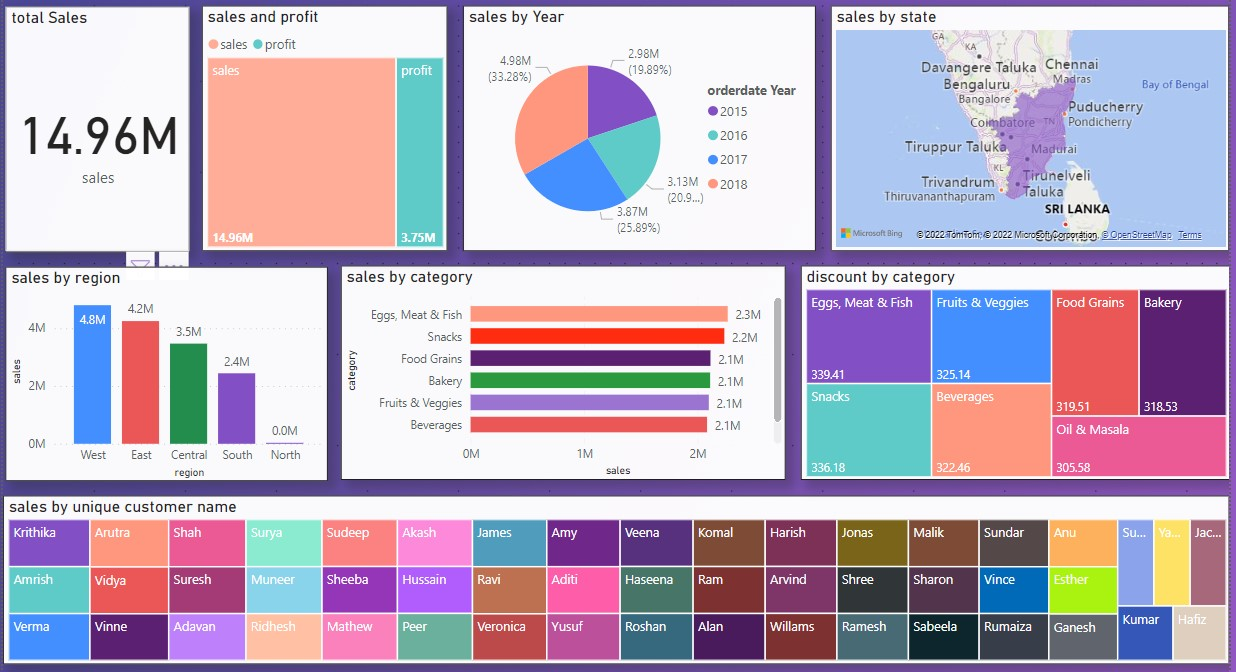

The page's visual inventory and layout, read from the dashboard file:
{"tool":"powerbi","page":{"name":"Page 1","canvas":[1280,720],"ordinal":0},"visuals":[{"type":"card","title":"total Sales ","fields":{"Values":["public fulldata.sales"]},"box":[2.6,16.9,192,256],"z":0},{"type":"columnChart","fields":{"Category":["public fulldata.region"],"Y":["public fulldata.sales"]},"box":[2.6,288.9,336,224],"z":1000},{"type":"clusteredBarChart","fields":{"Category":["public fulldata.category"],"Y":["public fulldata.sales"]},"box":[352,288,464,224],"z":2000},{"type":"pieChart","fields":{"Y":["public fulldata.sales"],"Category":["public fulldata.orderdate.Variation.Date Hierarchy.Year"]},"box":[480,16,368,256],"z":3000},{"type":"treemap","title":"sales by unique customer name","fields":{"Group":["public unique_customer.customername"],"Values":["public fulldata.sales"]},"box":[0,528,1280,176],"z":4000},{"type":"treemap","fields":{"Values":["public fulldata.sales","public fulldata.profit"]},"box":[208,16,256,256],"z":6000},{"type":"filledMap","fields":{"Category":["public record.state"]},"box":[864,16,416,256],"z":6001},{"type":"treemap","fields":{"Group":["public fulldata.category"],"Values":["public fulldata.discount"]},"box":[832,288,448,224],"z":6002}]}

Visuals, with their boxes in screenshot pixels (x1, y1, x2, y2):
"total Sales " card: crop(2, 3, 186, 248)
columnChart - public fulldata.region x public fulldata.sales: crop(2, 263, 323, 477)
clusteredBarChart - public fulldata.category x public fulldata.sales: crop(336, 262, 780, 476)
pieChart - public fulldata.sales x public fulldata.orderdate.Variation.Date Hierarchy.Year: crop(459, 2, 810, 247)
"sales by unique customer name" treemap: crop(0, 492, 1223, 660)
treemap - public fulldata.sales x public fulldata.profit: crop(199, 2, 443, 247)
filledMap - public record.state: crop(825, 2, 1223, 247)
treemap - public fulldata.category x public fulldata.discount: crop(795, 262, 1223, 476)
